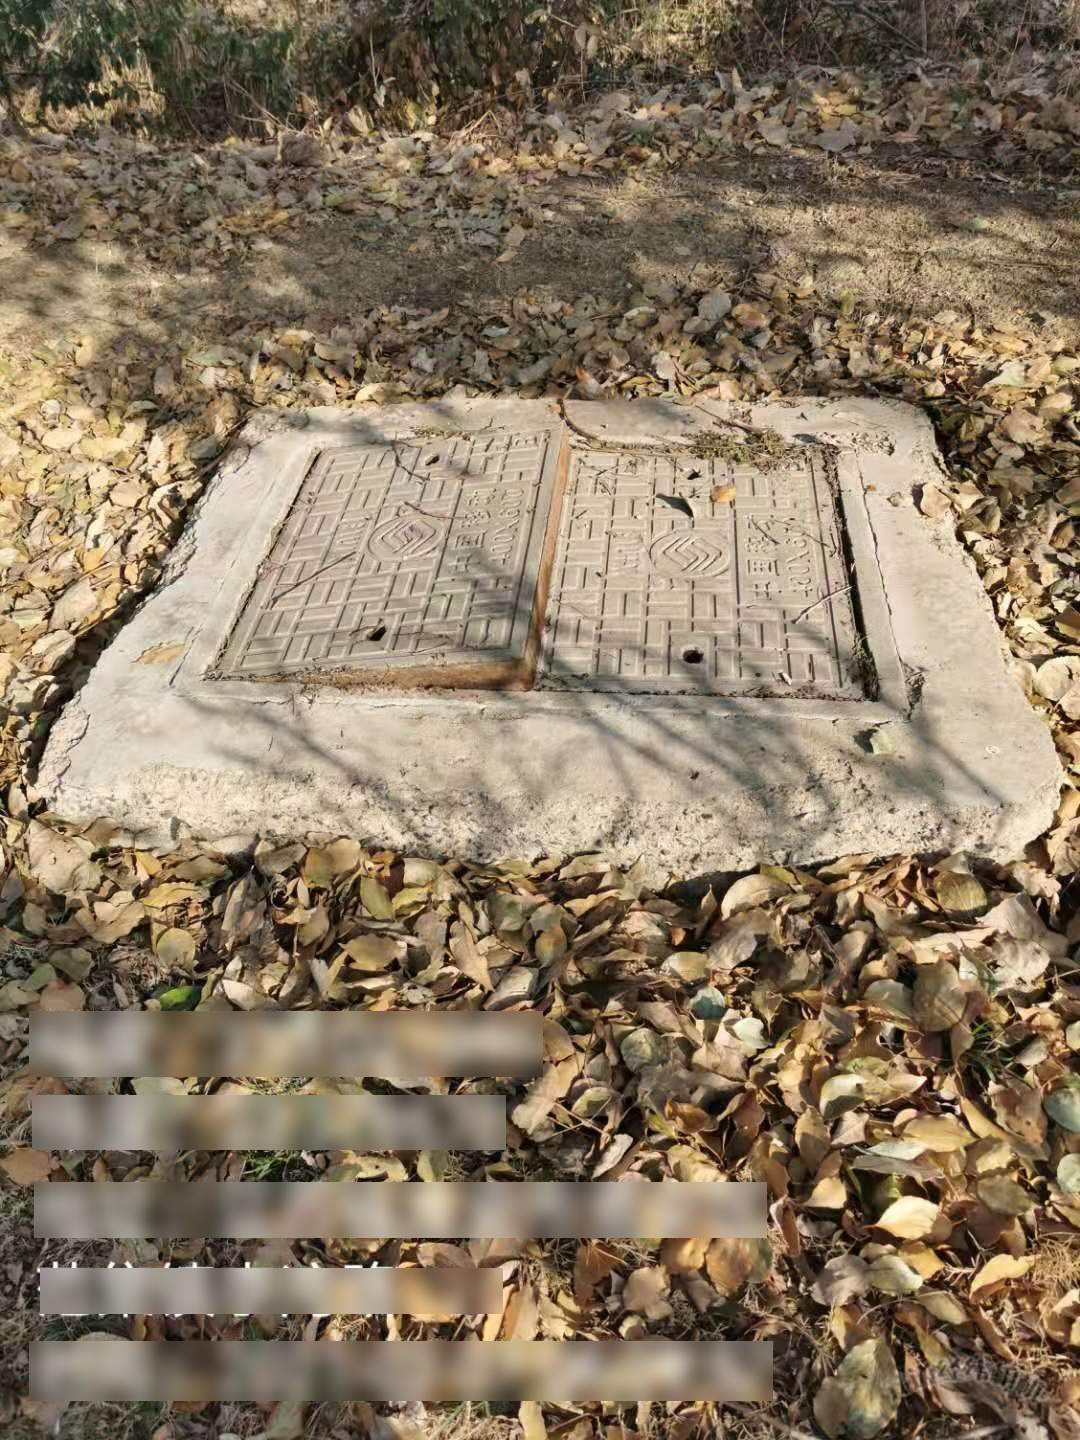uncovered: (175, 427, 911, 725)
